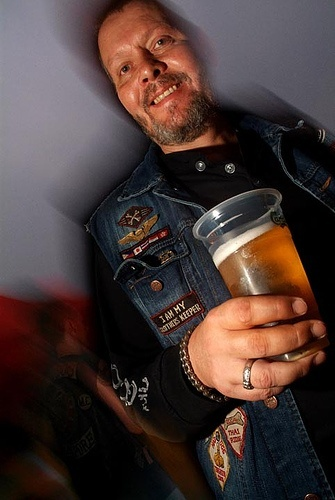head: (91, 1, 227, 158)
person: (35, 1, 335, 500)
